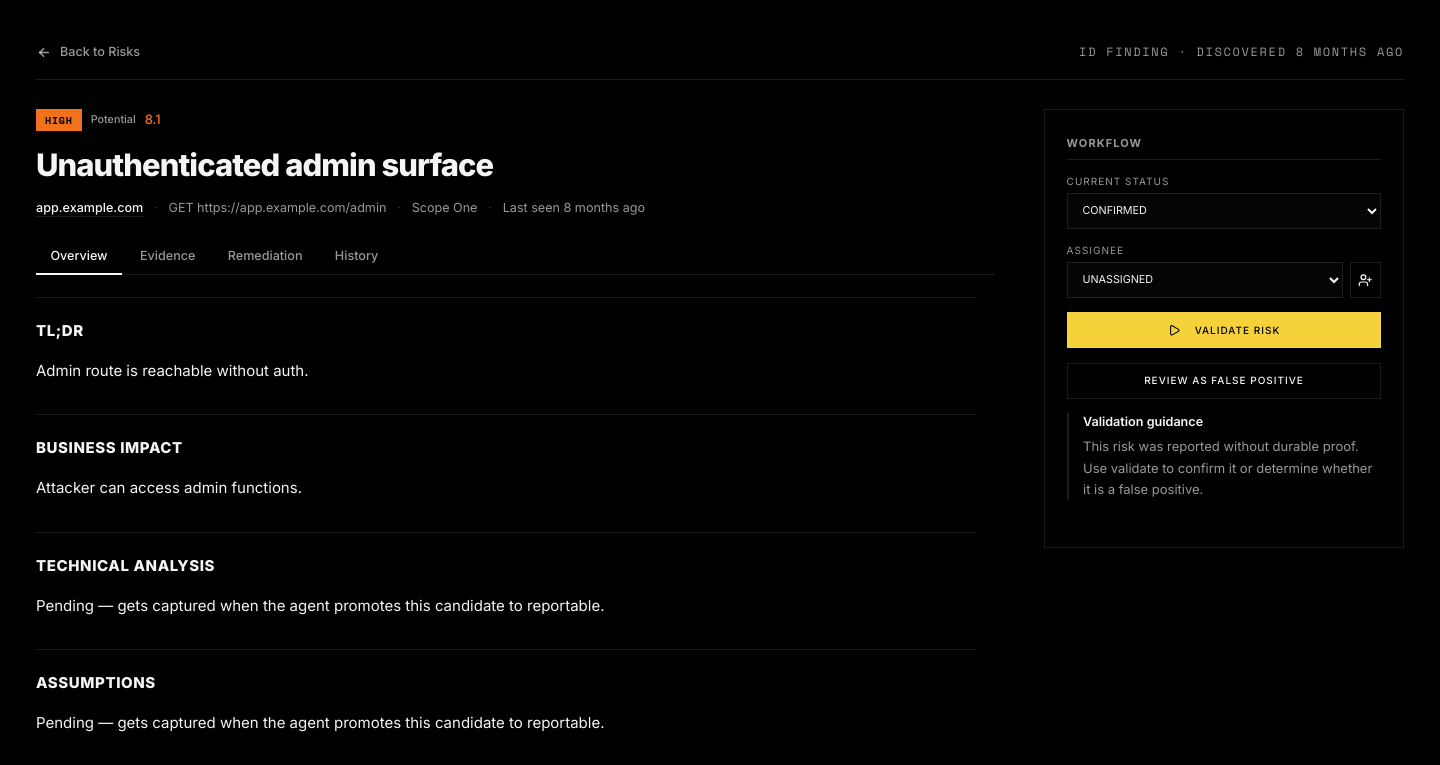
Scenario: FindingDetailPage validation workflow › renders the new findings IA and legacy fallbacks
Expected: the tab "Overview" is shown, [36,238,122,274]
Expected: the tab "Remediation" is shown, [213,238,317,274]
What coordinates should you click on to do the following:
click the tab "Evidence"
I would click on:
 (168, 256)
Its box is [126,238,210,274].
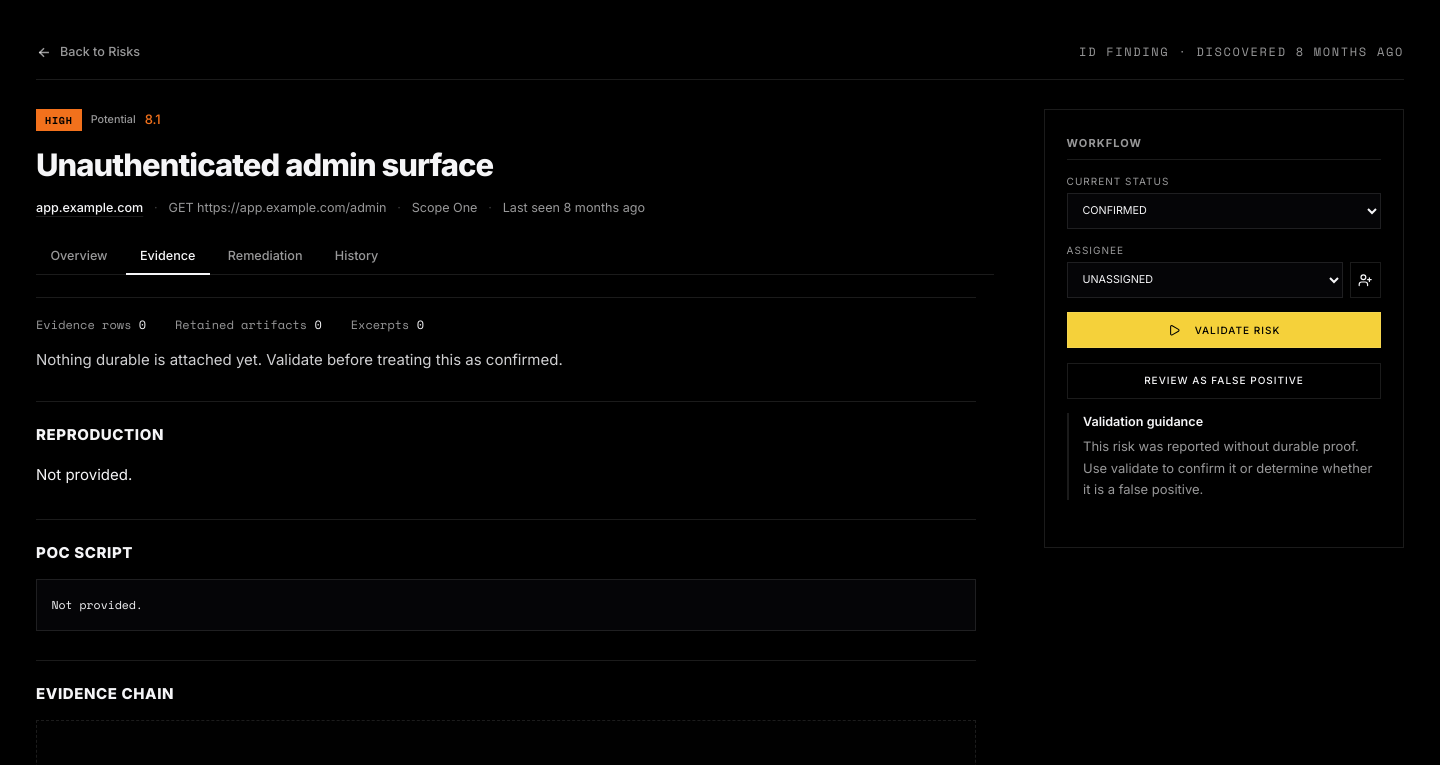
Expected: the heading "Reproduction" is shown, [36,424,164,447]
Expected: the heading "PoC Script" is shown, [36,542,133,564]
What coordinates should you click on to do the following:
click the tab "Remediation"
I would click on:
 (265, 256)
Its box is [213,238,317,274].
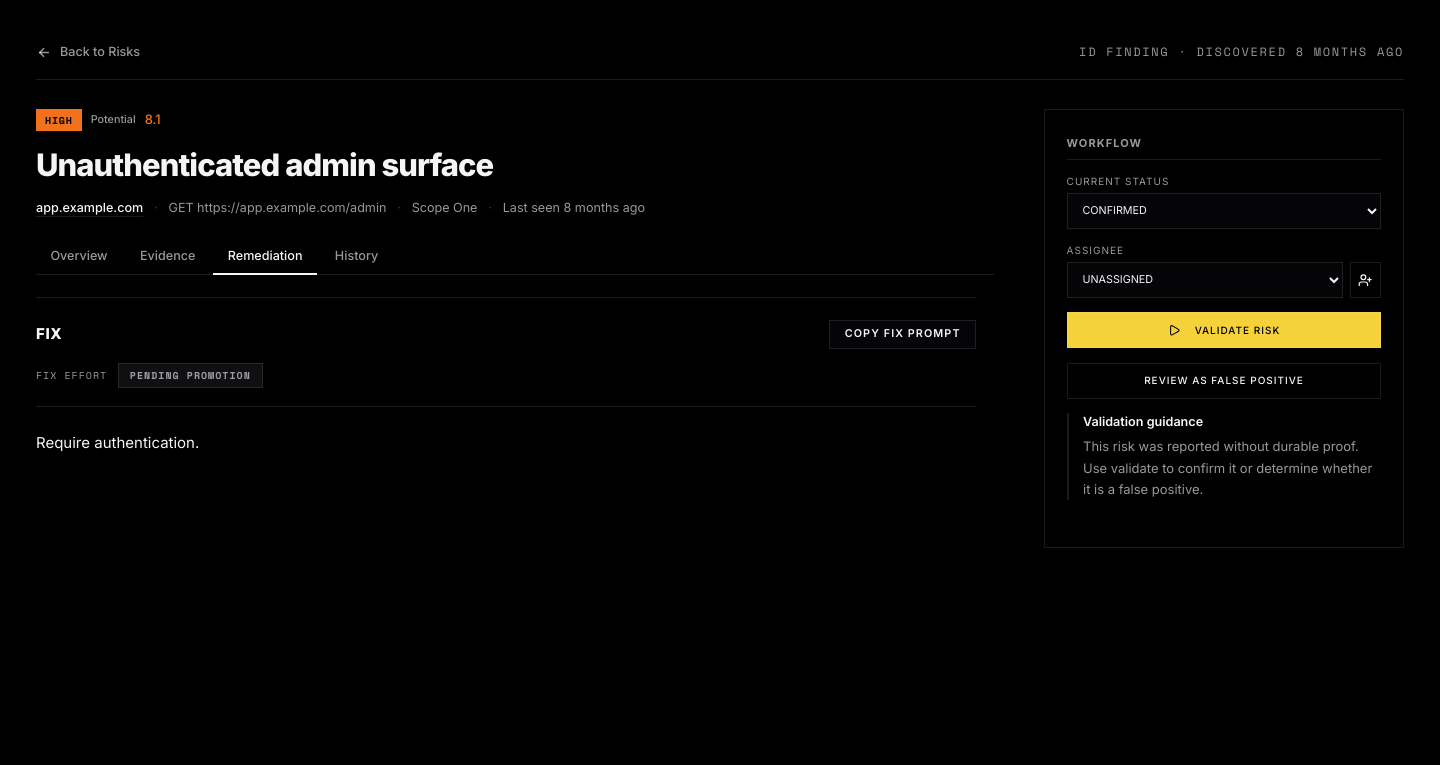
Expected: the heading "Fix" is shown, [36,323,62,345]
